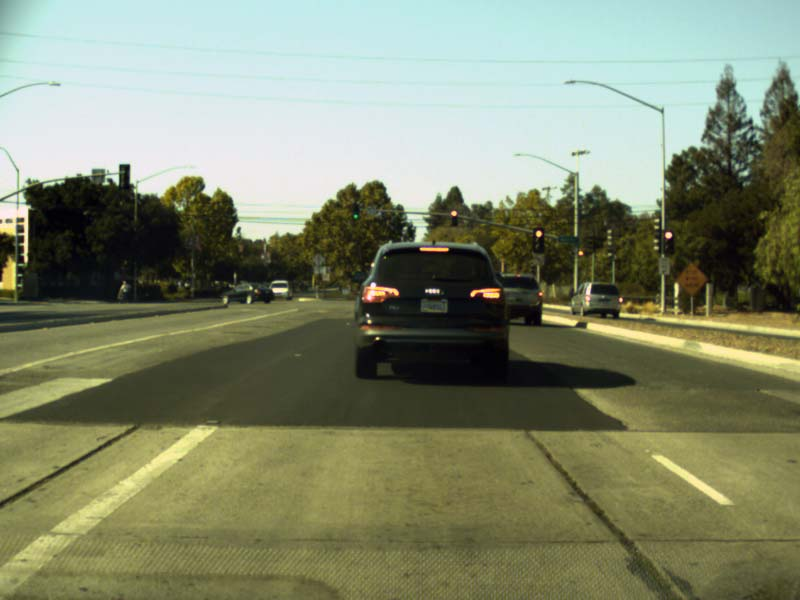Green: (351, 204, 359, 220)
Red: (533, 227, 544, 252), (664, 229, 673, 253), (451, 208, 457, 226), (577, 250, 582, 255)
